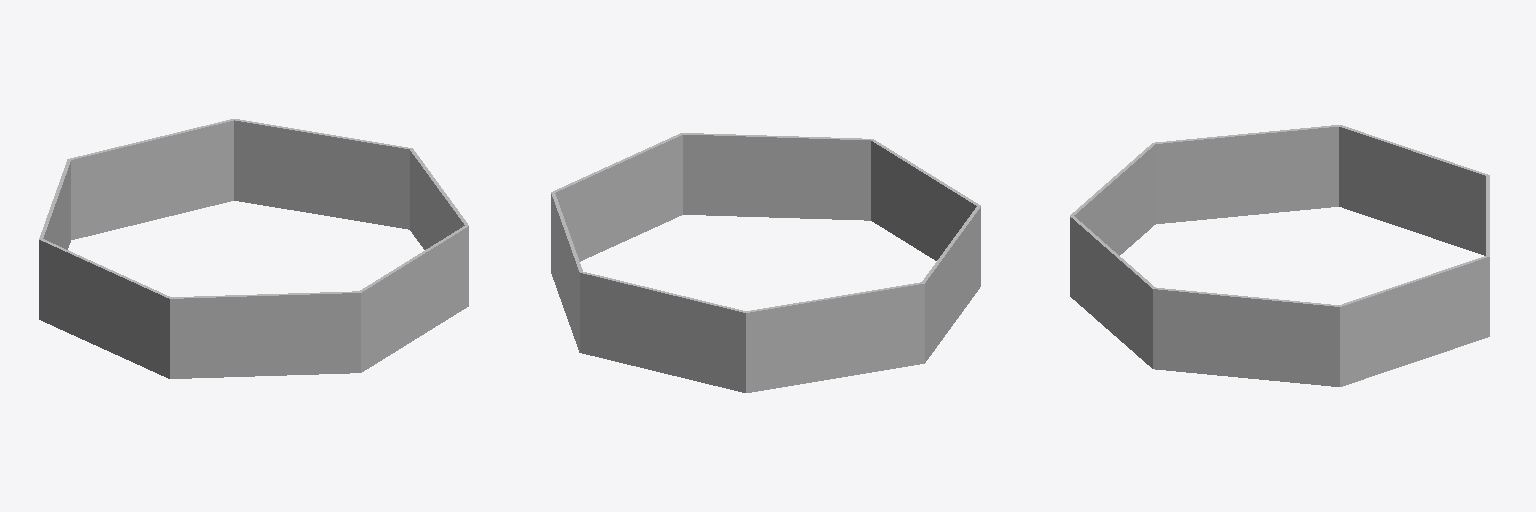
The model's file is gate17.obj.
3 views of the same model, side by side, from view 1: azimuth 30°, elevation 25°; view 2: azimuth 150°, elevation 25°; view 3: azimuth 270°, elevation 25° (orthographic).
Visible parts, largest first — view 1: Cylinder; view 2: Cylinder; view 3: Cylinder.
Part boxes in pixels (x1,y1,x2,y2): Cylinder: (39, 119, 468, 378); Cylinder: (551, 133, 980, 392); Cylinder: (1070, 125, 1489, 386).
Bounding box in the file's own units: 1.95 × 0.4 × 1.9.